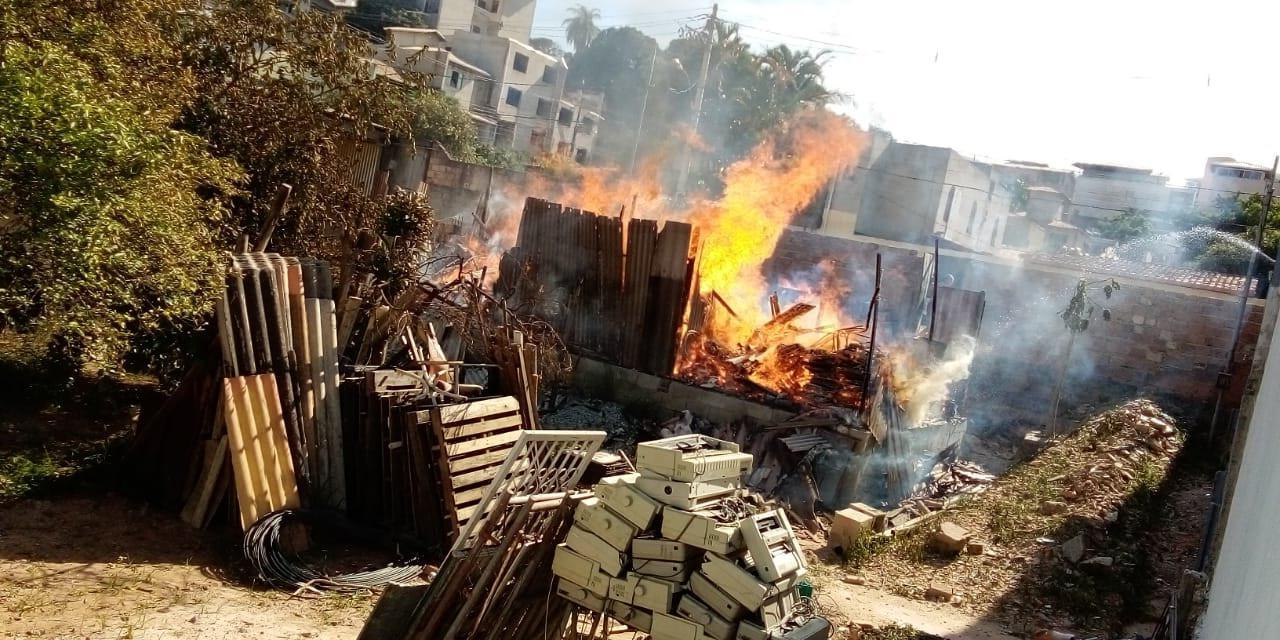Fire: (681, 103, 867, 376), (536, 117, 677, 209), (445, 180, 524, 283)
